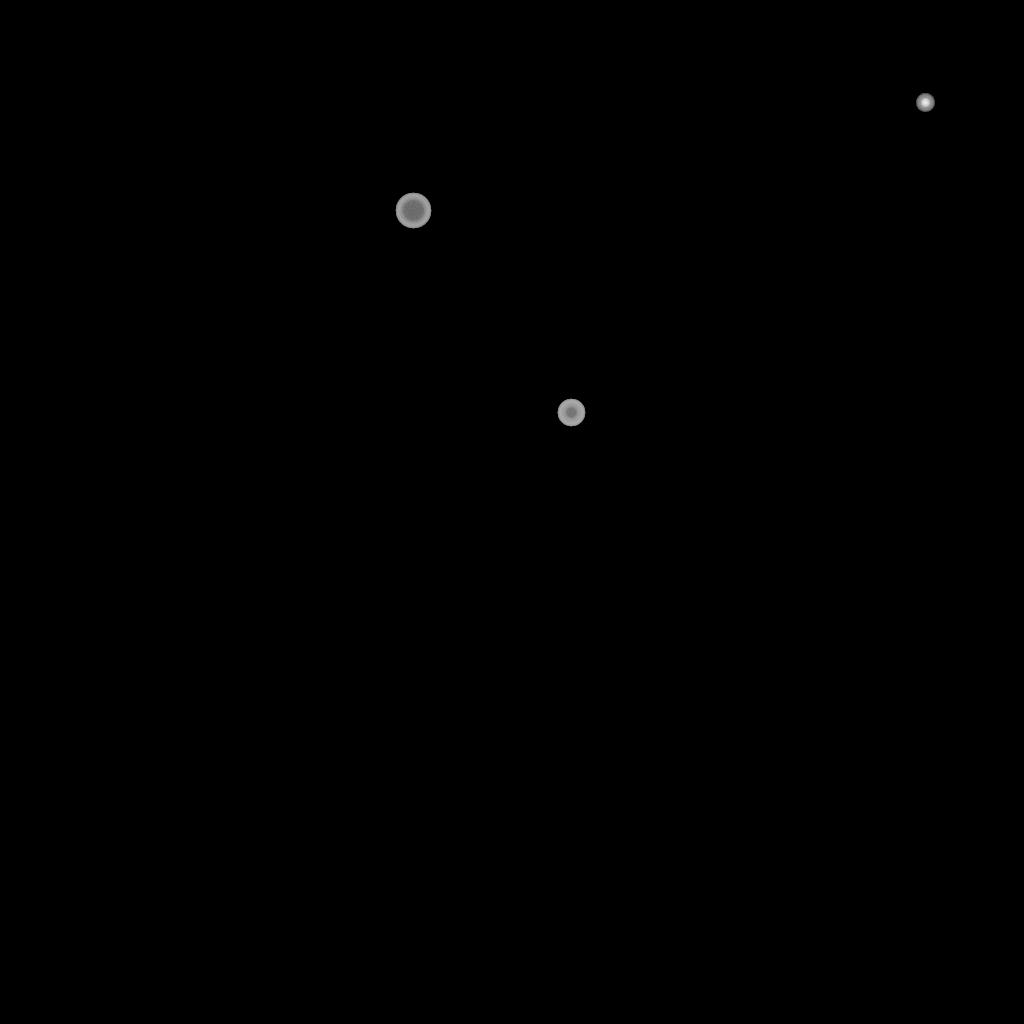depth:-20: (916, 94, 934, 112)
depth:-50: (557, 399, 585, 427)
depth:-60: (395, 193, 431, 229)
